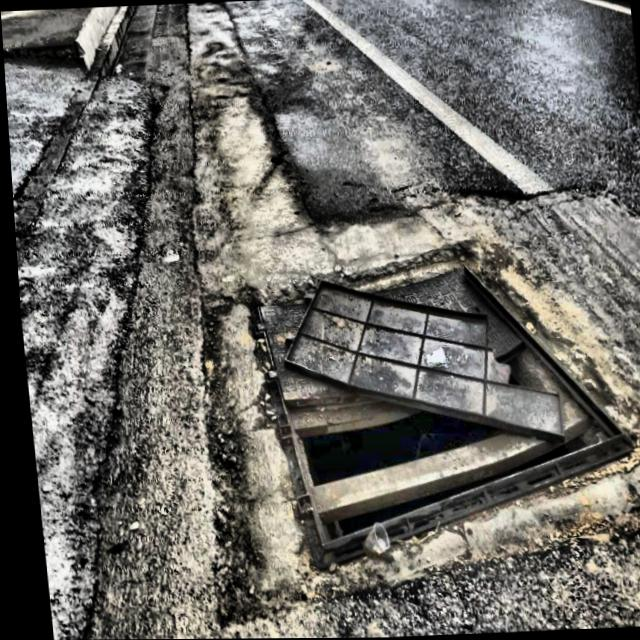Open Manhole: (264, 228, 638, 598)
